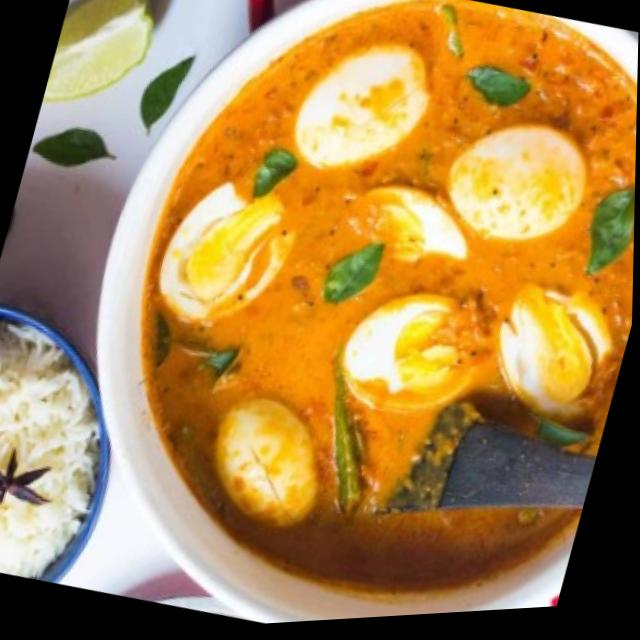EGG: (140, 0, 637, 599)
RICE: (0, 315, 100, 578)
